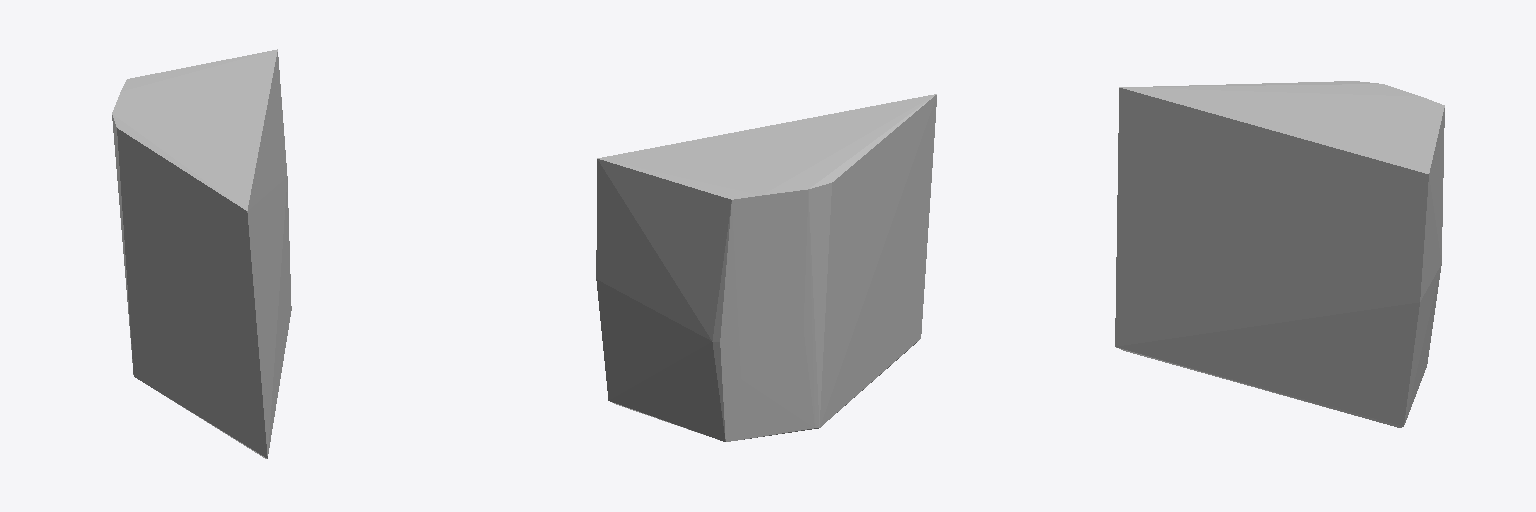
Rendered from trash_bin_collision_22.obj.
The picture shows the model from 3 angles: view 1: azimuth 30°, elevation 25°; view 2: azimuth 150°, elevation 25°; view 3: azimuth 270°, elevation 25°; orthographic projection.
Bounding box in the file's own units: 0.0358 × 0.0433 × 0.0504.